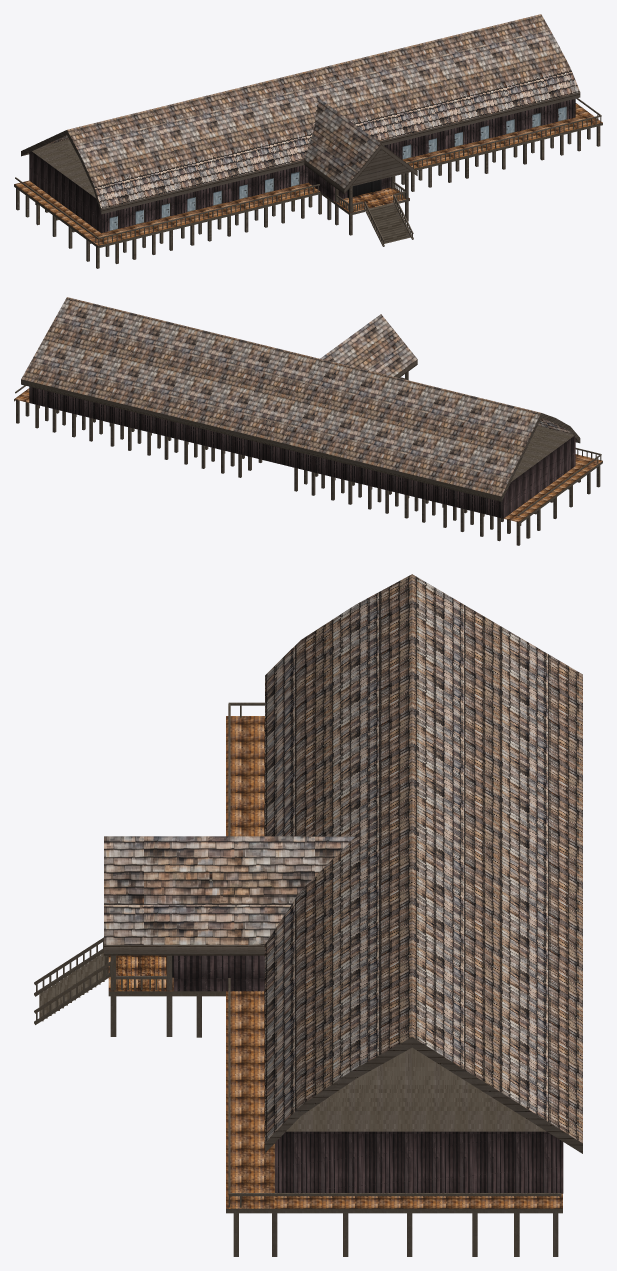
File: rumah.glb
The picture shows the model from 3 angles, top to bottom: view 1: azimuth 30°, elevation 25°; view 2: azimuth 150°, elevation 25°; view 3: azimuth 270°, elevation 25°; orthographic projection. The views are drawn at different scales.
Visible parts, largest first — view 1: Plane; view 2: Plane; view 3: Plane.
Boxes of the visible parts, x1,y1,x2,y2 form: Plane: [14, 14, 602, 268]; Plane: [14, 297, 602, 545]; Plane: [34, 574, 582, 1256].
Size of the model in its own units: 170 by 33.09 by 80.01.
7 materials, 7 textured.
